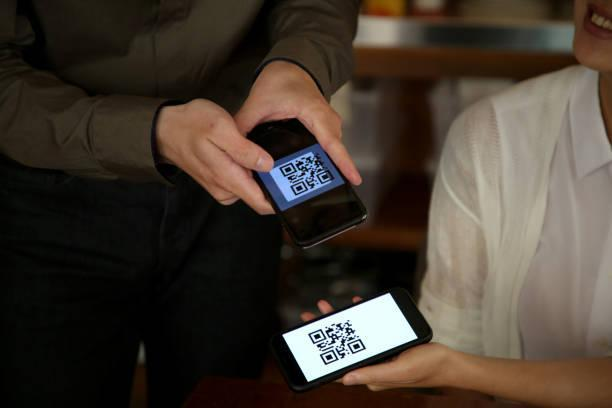Finder pattern: (314, 168, 336, 186), (346, 337, 368, 354), (319, 348, 339, 366), (306, 328, 328, 344), (279, 161, 298, 179), (290, 179, 308, 196)
